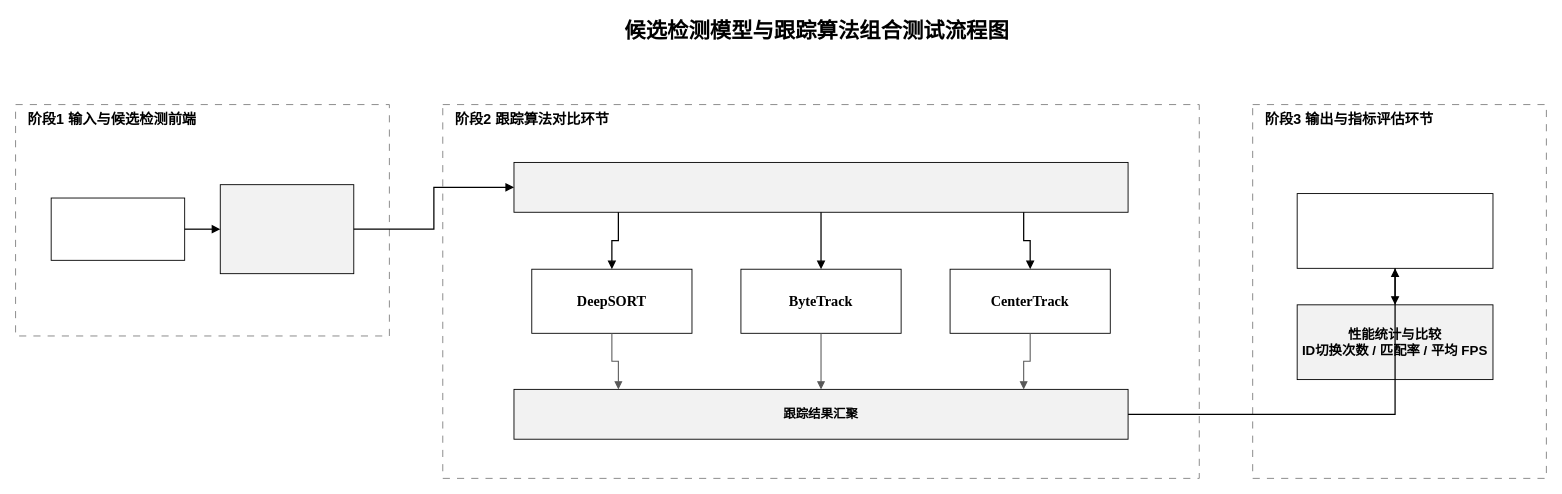
This 1562x494 diagram has some shape labels left out. Here are the shapes that lost their labels. From the top down, the centre of each, then its label:
At pixel 820 187: "统一检测结果输入".
At pixel 117 228: "红外测试视频输入".
At pixel 286 229: "候选检测模型 exp01 / exp03 / exp06 / exp07 / exp09".
At pixel 1394 230: "跟踪结果输出 ID、类别与轨迹信息".
